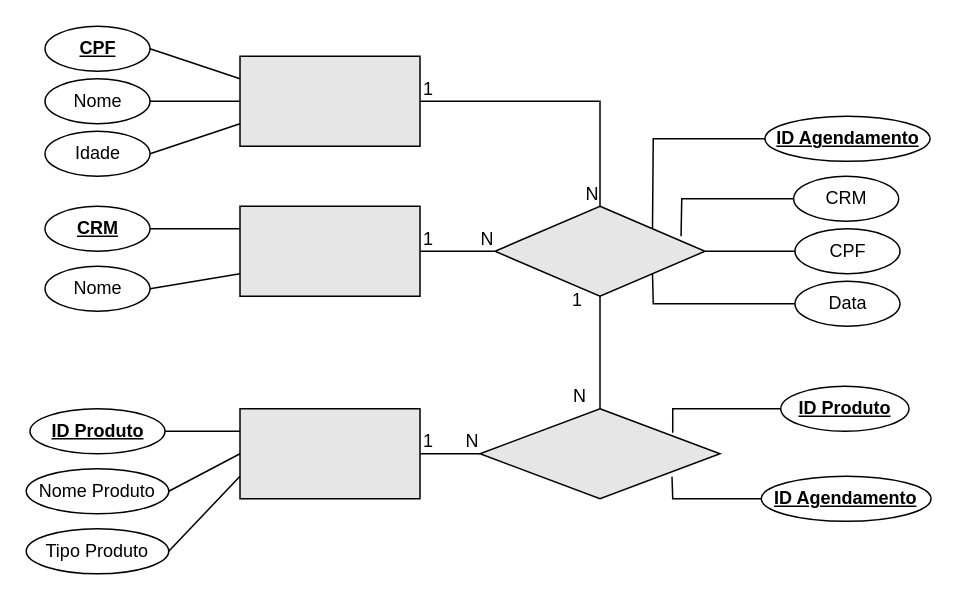
Some shapes in this 959 by 600 pixel diagram are drawn without their labels. The shapes that lost their labels are listed below. From the top down, each one's box as (x1, y1, x2, y2) in pixels, then its label:
(238, 55, 420, 146): Cliente
(238, 205, 420, 296): Médico
(494, 205, 705, 296): Agendamento
(238, 407, 420, 499): Produto
(478, 407, 720, 499): ProdutoAgendamento
